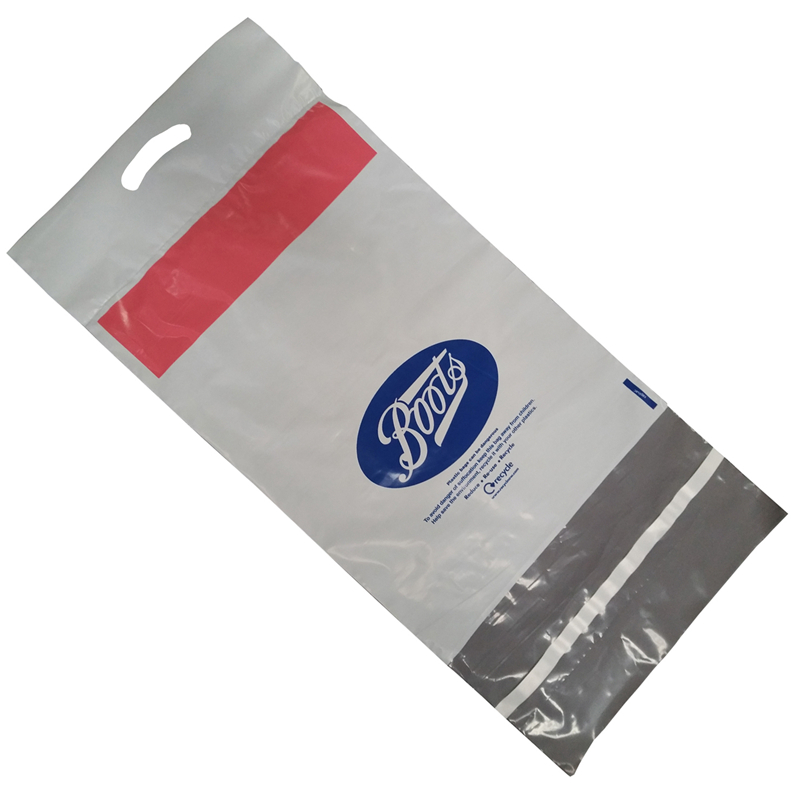塑料袋: (16, 16, 793, 771)
